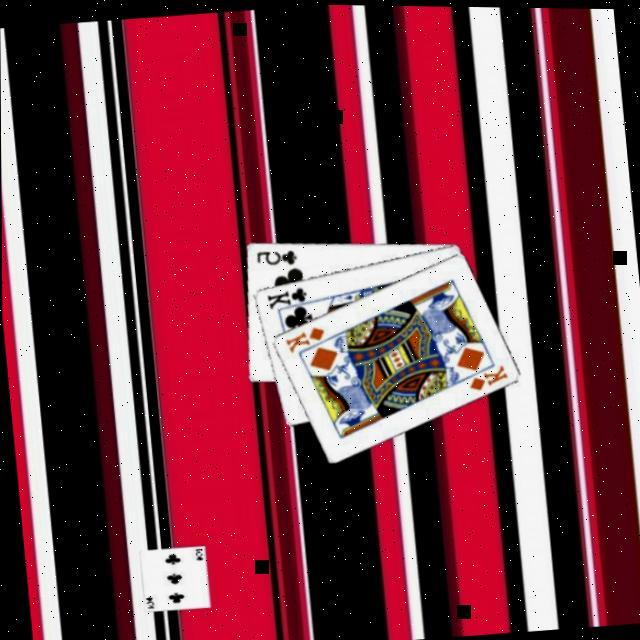5C: (250, 244, 297, 271)
KC: (260, 283, 312, 315)
KD: (278, 322, 326, 357), (461, 360, 508, 394)
